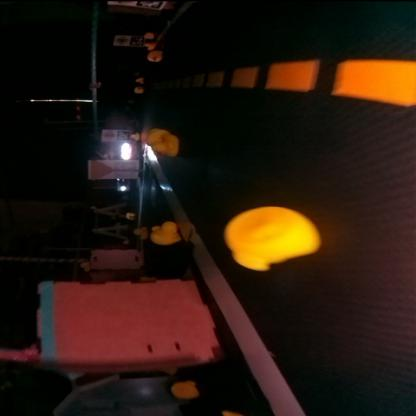Duckie: (226, 211, 311, 269), (150, 220, 178, 244), (152, 134, 178, 156), (170, 384, 198, 400), (146, 128, 168, 143), (148, 53, 160, 62), (134, 87, 142, 93), (134, 76, 142, 82), (143, 33, 150, 39), (126, 214, 134, 219), (130, 133, 136, 139), (144, 43, 151, 48)
